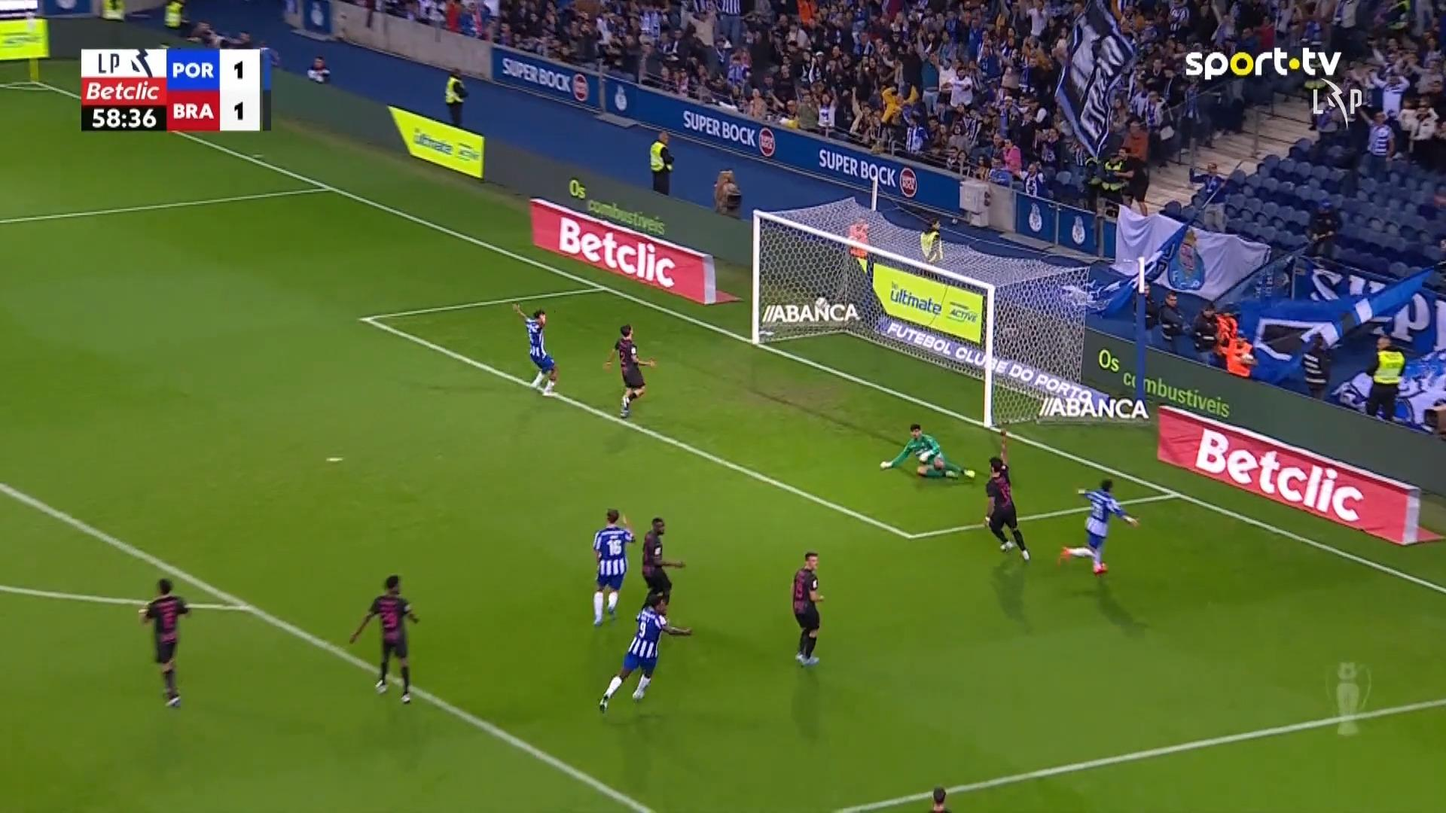goalkeeper: (879, 422, 975, 480)
player: (596, 587, 693, 714), (349, 573, 419, 703), (1057, 477, 1139, 574), (138, 577, 191, 707), (982, 429, 1030, 562), (639, 516, 686, 632), (590, 507, 635, 626), (602, 323, 656, 419), (511, 301, 558, 395), (791, 550, 825, 665)
